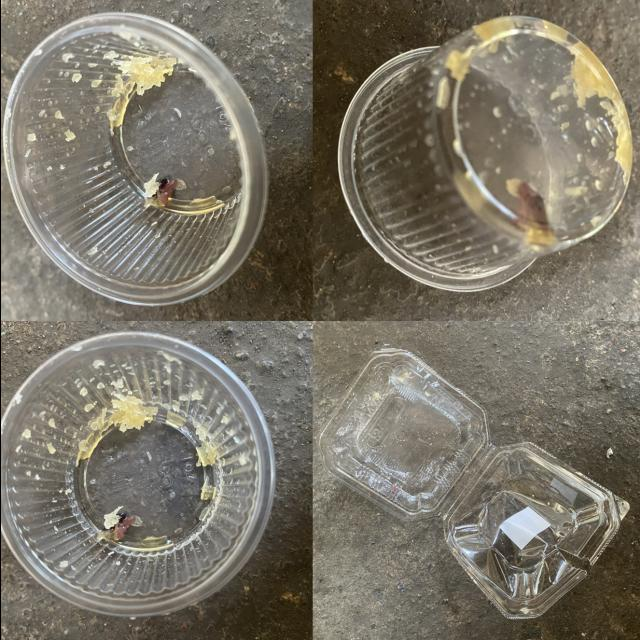plastik: (317, 342, 628, 618), (338, 16, 631, 290), (0, 333, 273, 617), (3, 12, 266, 304)
